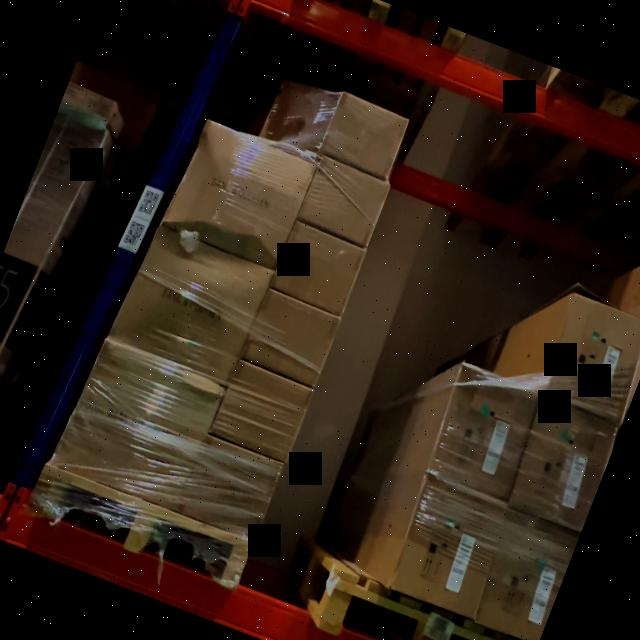box: (54, 343, 220, 510), (116, 228, 272, 379), (166, 121, 316, 268), (390, 479, 512, 618), (425, 367, 545, 502), (506, 402, 620, 530), (472, 515, 578, 640), (541, 296, 640, 419), (180, 437, 282, 539), (214, 361, 314, 462), (242, 292, 340, 386), (272, 223, 366, 314), (297, 157, 391, 246), (322, 92, 409, 178), (262, 80, 338, 157)
